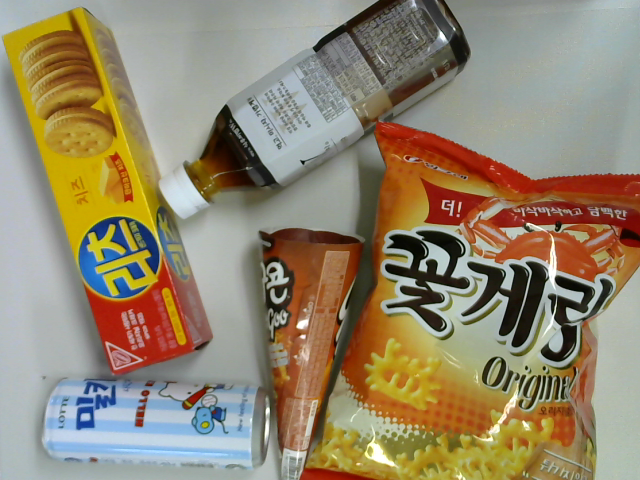Crabrang: (302, 119, 640, 480)
GooGoo_Cone_CVS: (255, 227, 366, 480)
Milkies_250ml: (39, 375, 273, 475)
Post-meal_recipe_W_tea_500ml: (157, 1, 472, 221)
Ritz_Sand_Cracker: (2, 2, 215, 373)
